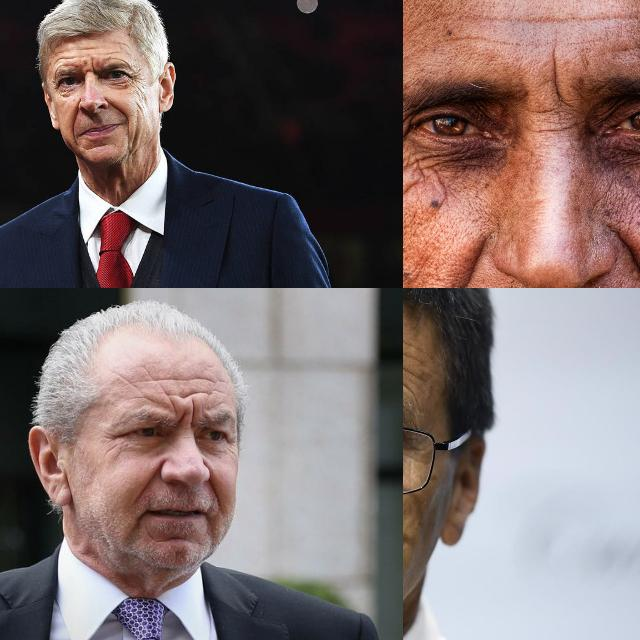chin: (165, 531, 195, 549), (141, 522, 155, 546), (86, 142, 110, 152)
crows_feet: (105, 427, 126, 448), (222, 432, 238, 453), (130, 74, 144, 90)
forehead: (553, 3, 640, 36), (468, 2, 534, 32), (443, 0, 538, 11), (403, 337, 423, 388), (127, 376, 149, 402), (158, 369, 188, 388), (176, 385, 206, 403), (194, 369, 218, 388), (52, 52, 78, 66), (103, 49, 127, 62)
frown_line: (542, 57, 570, 106), (534, 117, 580, 143), (177, 400, 197, 426), (84, 58, 96, 76)
gummy_smile: (439, 243, 488, 288), (614, 235, 640, 288), (140, 462, 160, 498), (108, 96, 128, 118), (206, 476, 220, 506), (69, 105, 83, 132)
masseter: (403, 177, 425, 209), (134, 98, 148, 116)
sad_smile: (122, 122, 132, 138), (70, 131, 80, 147)
